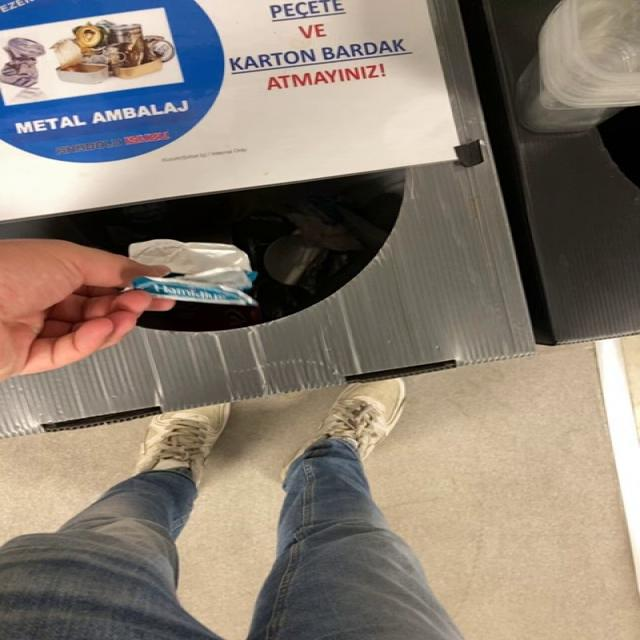bin: (0, 0, 536, 436)
metal: (128, 239, 257, 306)
